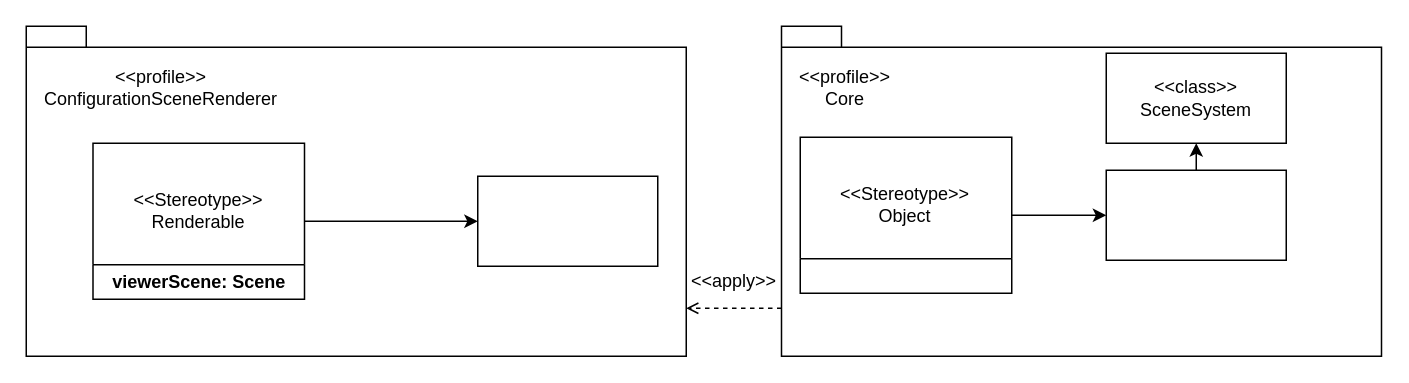
The diagram is 1409 pixels wide and 383 high, and some of its shapes have lost their labels. Each missing label, with the centre of its shape:
<<class>> ConfigurationScene: (x=567, y=220)
<<class>> SceneObject: (x=1195, y=214)
